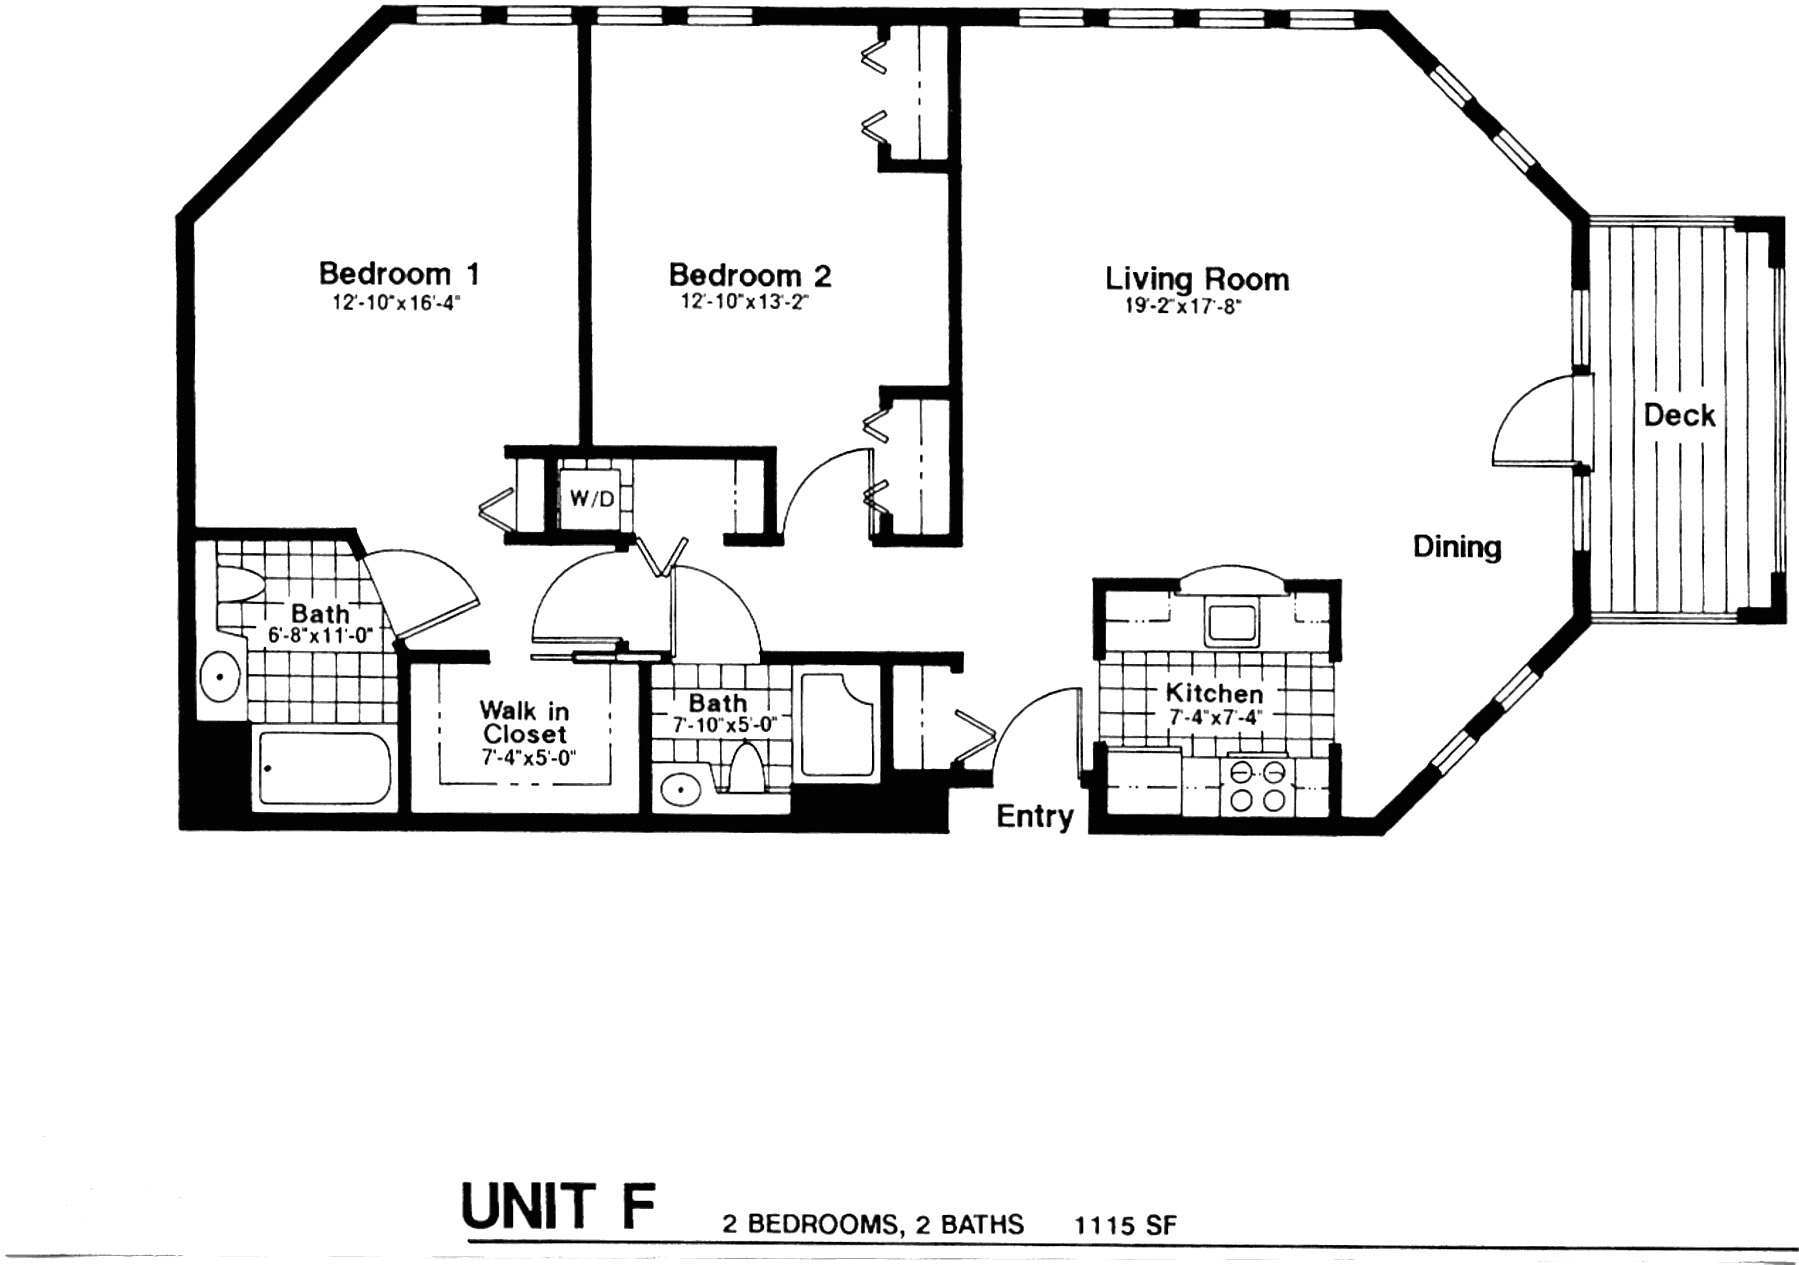wall: (193, 817, 946, 824), (183, 208, 192, 824), (589, 14, 596, 455), (950, 14, 954, 535), (396, 653, 407, 821), (1102, 817, 1373, 821), (194, 535, 350, 541), (648, 660, 652, 820), (512, 448, 779, 449), (1288, 583, 1340, 589), (771, 652, 958, 653), (893, 663, 894, 832), (1103, 585, 1182, 587), (1579, 554, 1581, 624), (1583, 218, 1585, 277), (511, 535, 619, 537)
